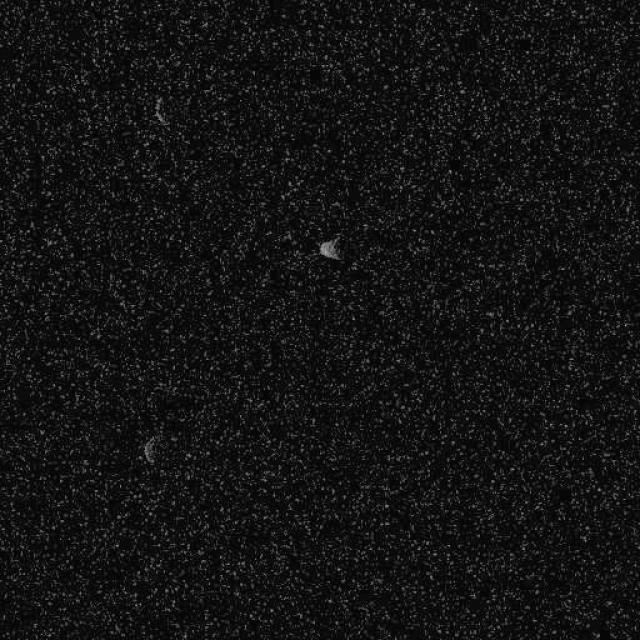D2: (316, 235, 342, 261), (151, 95, 169, 125), (142, 434, 158, 464)
